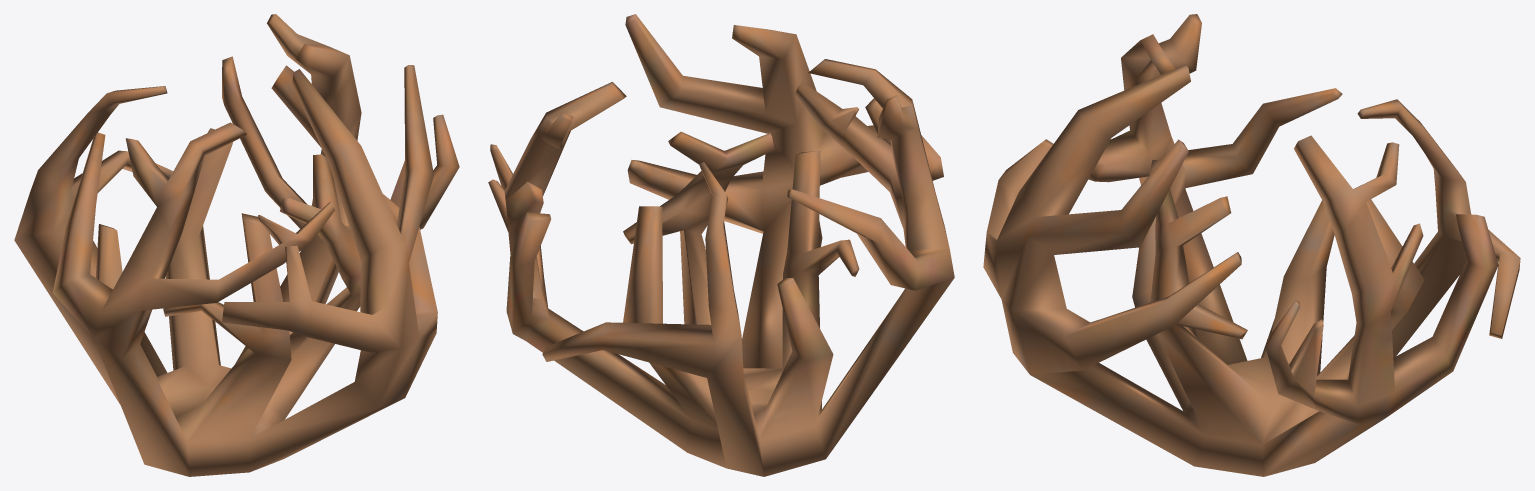
The model's file is Tumbleweed.fbx.
3 renders of one model, left to right at view 1: azimuth 30°, elevation 25°; view 2: azimuth 150°, elevation 25°; view 3: azimuth 270°, elevation 25°, orthographic. The views are drawn at different scales.
Parts seen in each view (by area): view 1: Tumbleweed; view 2: Tumbleweed; view 3: Tumbleweed.
Part boxes in pixels (x1,y1,x2,y2): Tumbleweed: [14, 14, 459, 476]; Tumbleweed: [488, 14, 954, 476]; Tumbleweed: [983, 14, 1520, 476].
Bounding box in the file's own units: 38.68 × 34.8 × 41.85.
